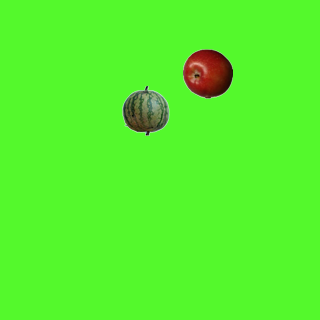Apple Braeburn: (182, 48, 232, 98)
Watermelon: (120, 85, 170, 135)
